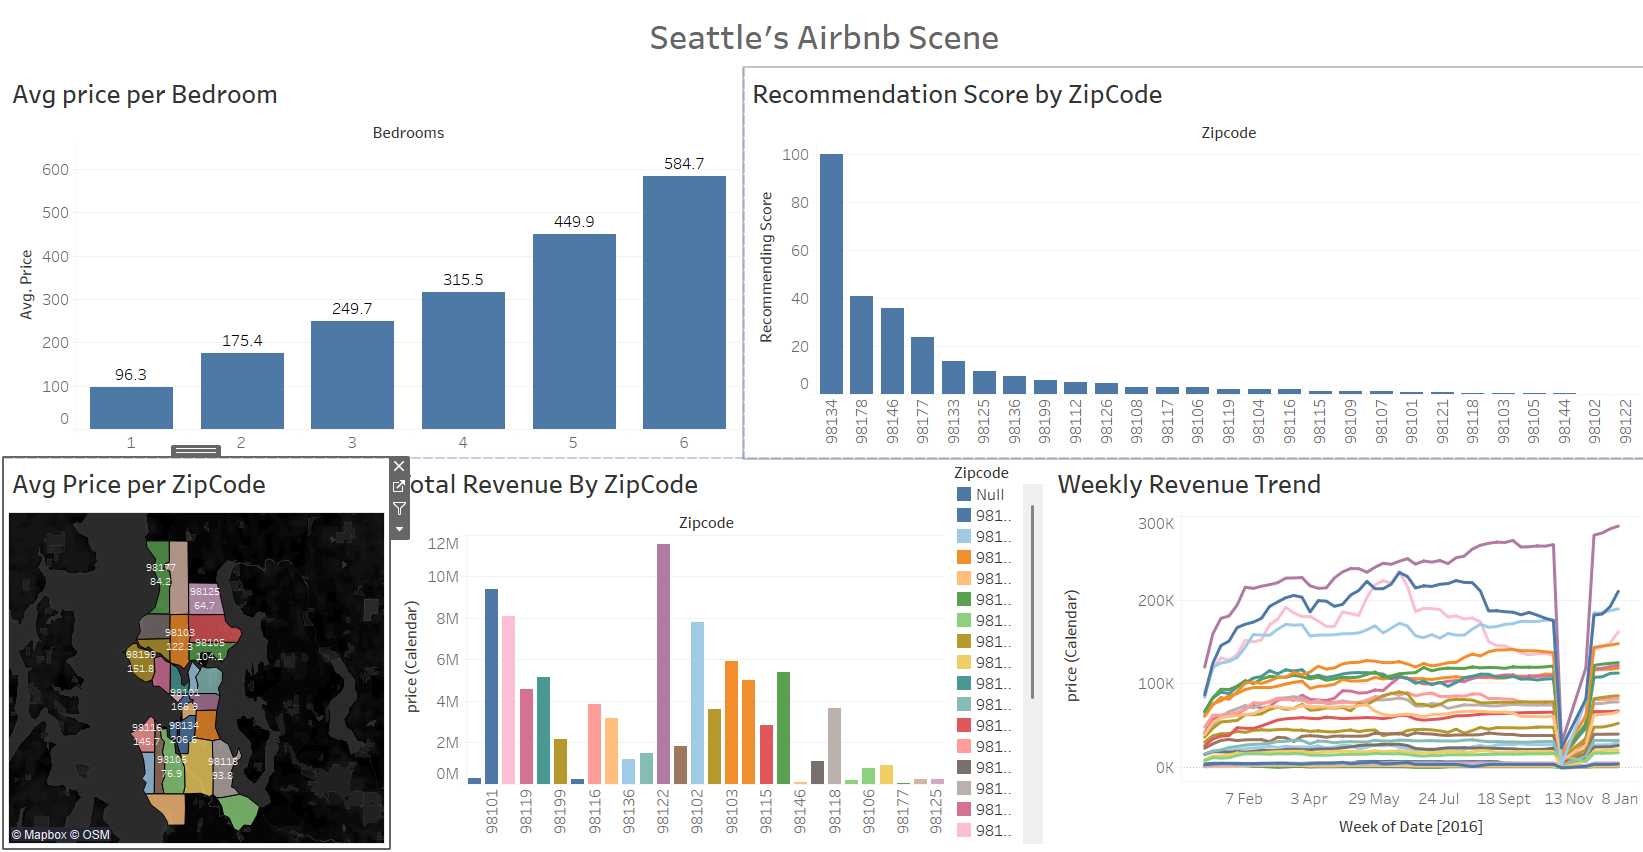

The page's visual inventory and layout, read from the dashboard file:
{"tool":"tableau","page":{"name":"Dashboard 1 (2)","canvas":[1000,1000],"units":"permille","ordinal":0},"visuals":[{"type":"text","box":[4.8,9.3,990.3,75.5]},{"type":"worksheet","title":"Sheet 4","mark":"Automatic","rows":["price"],"cols":["bedrooms"],"box":[4.8,84.8,446.6,453]},{"type":"worksheet","title":"Sheet 6","mark":"Automatic","rows":["Calculation_1481121359140974597"],"cols":["zipcode"],"box":[451.4,84.8,543.8,453]},{"type":"worksheet","title":"Sheet 2","mark":"Multipolygon","box":[4.8,537.8,232.6,453]},{"type":"worksheet","title":"Sheet 1","mark":"Automatic","rows":["price (Calendar)"],"cols":["zipcode"],"box":[237.4,537.8,338.4,453]},{"type":"legend","title":"Sheet 1","param":"[federated.1pqaos60od59fb191f7du0p73y5e].[none:zipcode:ok]","box":[575.8,537.8,59.7,453]},{"type":"worksheet","title":"Sheet 3","mark":"Automatic","rows":["price (Calendar)"],"cols":["date"],"box":[635.5,537.8,359.7,453]}]}

Visuals, with their boxes on the dashboard's canvas, which has no fixed pixel size, in thousandths of its width and height (x1, y1, x2, y2). These are canvas units, not pixel positions in the 1643x852 screenshot, which may show the page scaled, cropped or inside an application window:
text: [x1=5, y1=9, x2=995, y2=85]
"Sheet 4" worksheet: [x1=5, y1=85, x2=451, y2=538]
"Sheet 6" worksheet: [x1=451, y1=85, x2=995, y2=538]
"Sheet 2" worksheet (Multipolygon marks): [x1=5, y1=538, x2=237, y2=991]
"Sheet 1" worksheet: [x1=237, y1=538, x2=576, y2=991]
"Sheet 1" legend: [x1=576, y1=538, x2=636, y2=991]
"Sheet 3" worksheet: [x1=636, y1=538, x2=995, y2=991]
